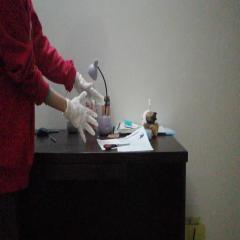gloved: (68, 93, 98, 143), (76, 74, 105, 108)
